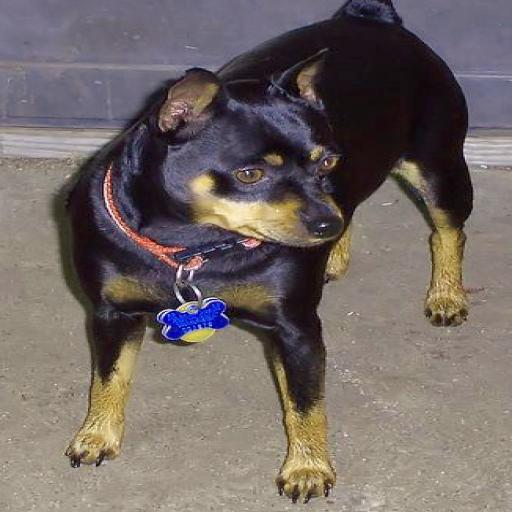dog_face: (152, 66, 349, 259)
